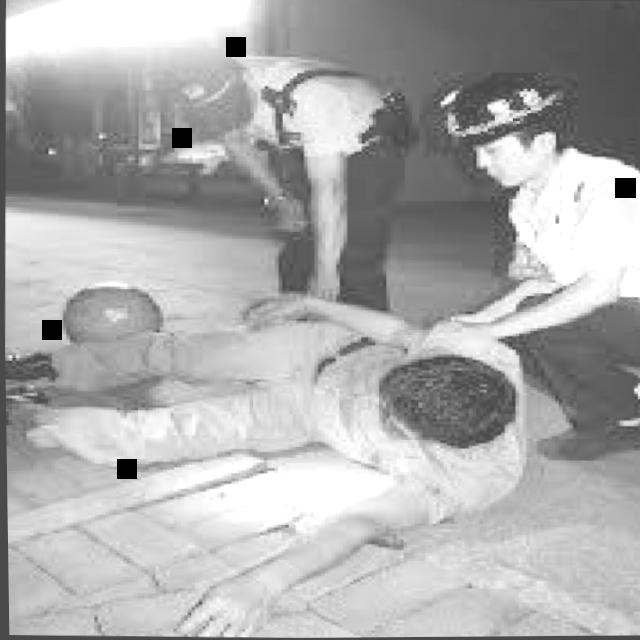Fall-Detected: (3, 260, 521, 640)
